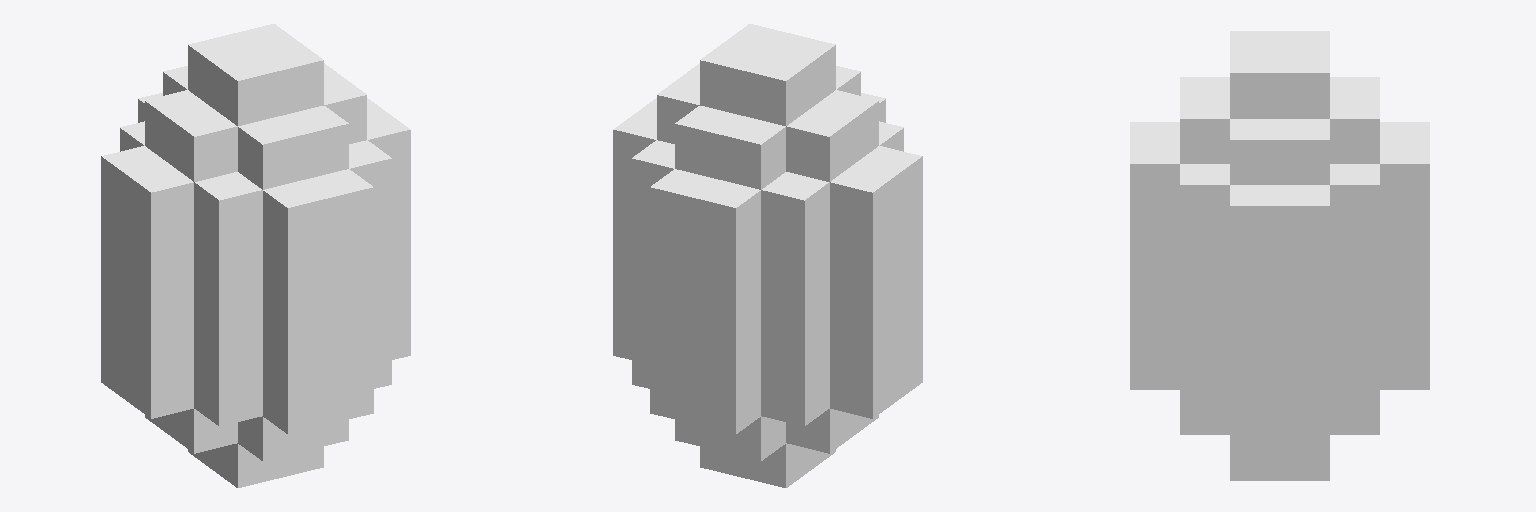
The model's file is Easter-Egg-4.obj.
3 renders of one model, left to right at view 1: azimuth 30°, elevation 25°; view 2: azimuth 150°, elevation 25°; view 3: azimuth 270°, elevation 25°, orthographic.
Parts seen in each view (by area): view 1: object 1; view 2: object 1; view 3: object 1.
Part boxes in pixels (left/top/right/bottom): object 1: left=101, top=24, right=410, bottom=487; object 1: left=613, top=24, right=922, bottom=487; object 1: left=1130, top=31, right=1429, bottom=480.
Bounding box in the file's own units: 0.6 × 0.9 × 0.6.